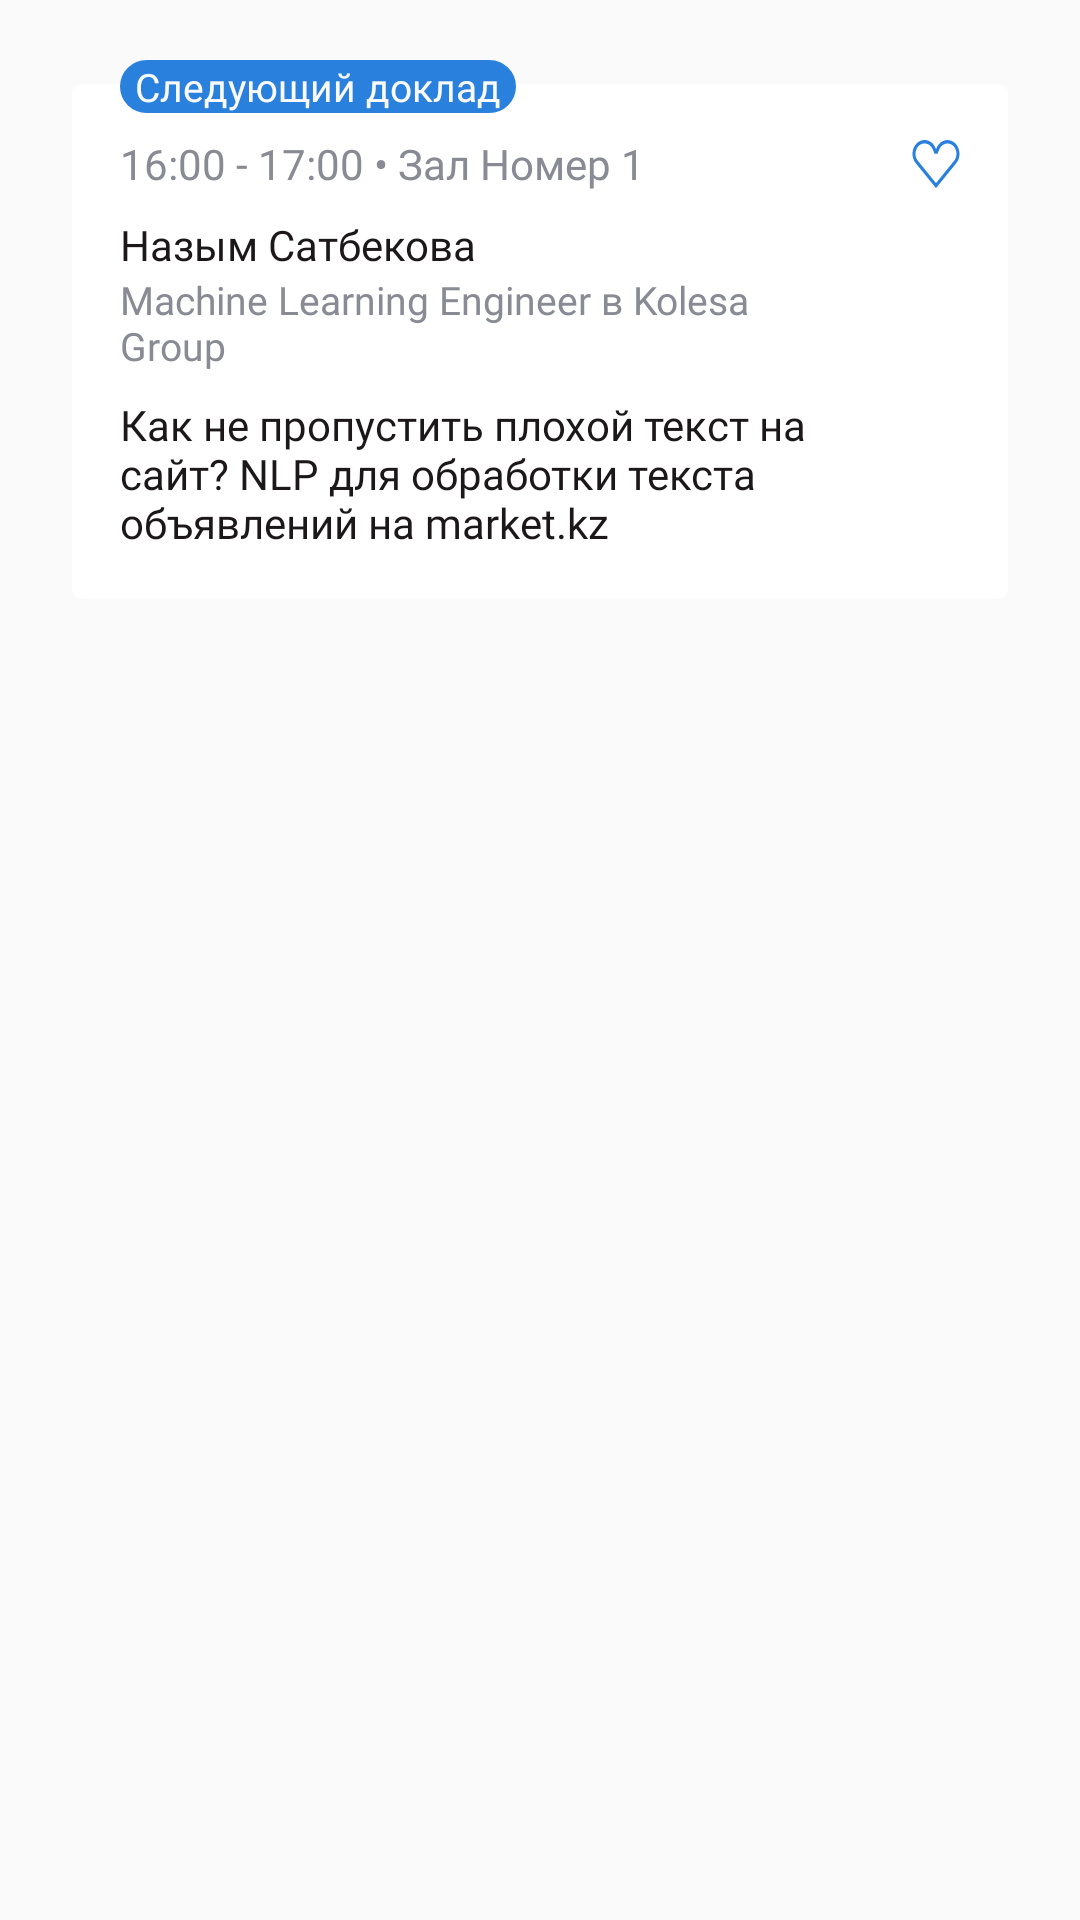

Where to tap for icons on this 1080x1920 app screen, as [x,y]:
favorite border: [936,164]
